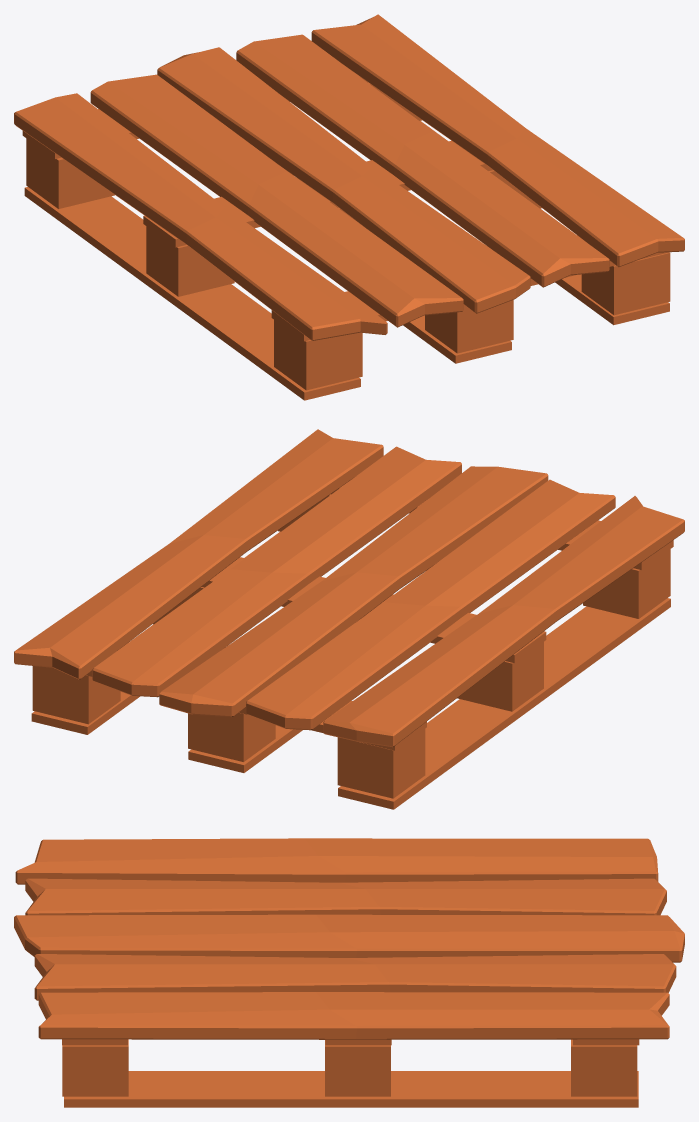
The model's file is Wooden Pallet .001.fbx.
3 renders of one model, top to bottom at view 1: azimuth 30°, elevation 25°; view 2: azimuth 150°, elevation 25°; view 3: azimuth 270°, elevation 25°, orthographic. The views are drawn at different scales.
Parts seen in each view (by area): view 1: Wooden Pallet .001; view 2: Wooden Pallet .001; view 3: Wooden Pallet .001.
Boxes of the visible parts, box(x1,y1,x2,y2) form: Wooden Pallet .001: box(14, 14, 684, 400); Wooden Pallet .001: box(14, 429, 684, 809); Wooden Pallet .001: box(14, 838, 684, 1107).
Size of the model in its own units: 121 by 25.83 by 182.
